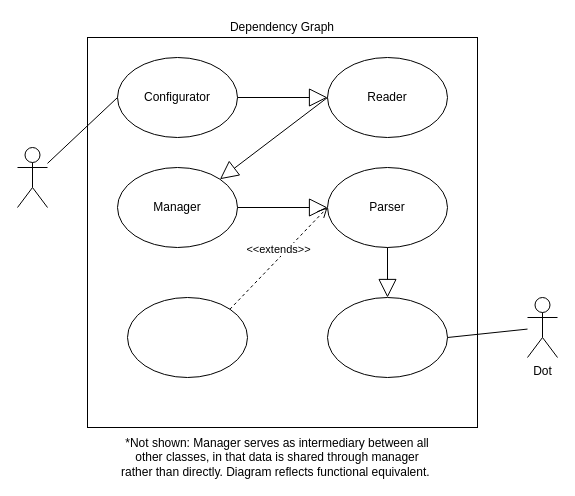
The diagram is 575 pixels wide and 496 high, and some of its shapes have lost their labels. Here are the shapes that lost their labels. From the top down, the box of each, then its label:
(16, 146, 48, 208): User
(126, 296, 248, 378): Graph Manipulator
(326, 296, 448, 378): Writer
